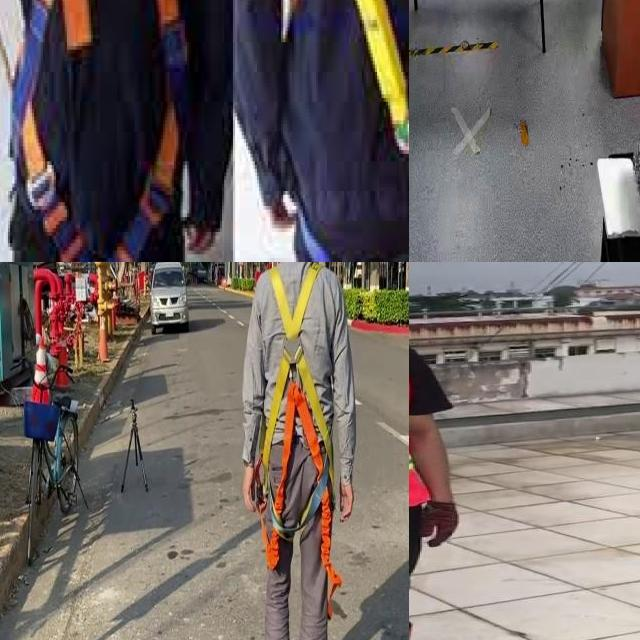Harness: (8, 0, 189, 262), (285, 0, 409, 262), (261, 262, 341, 594)
person: (409, 262, 486, 640)
